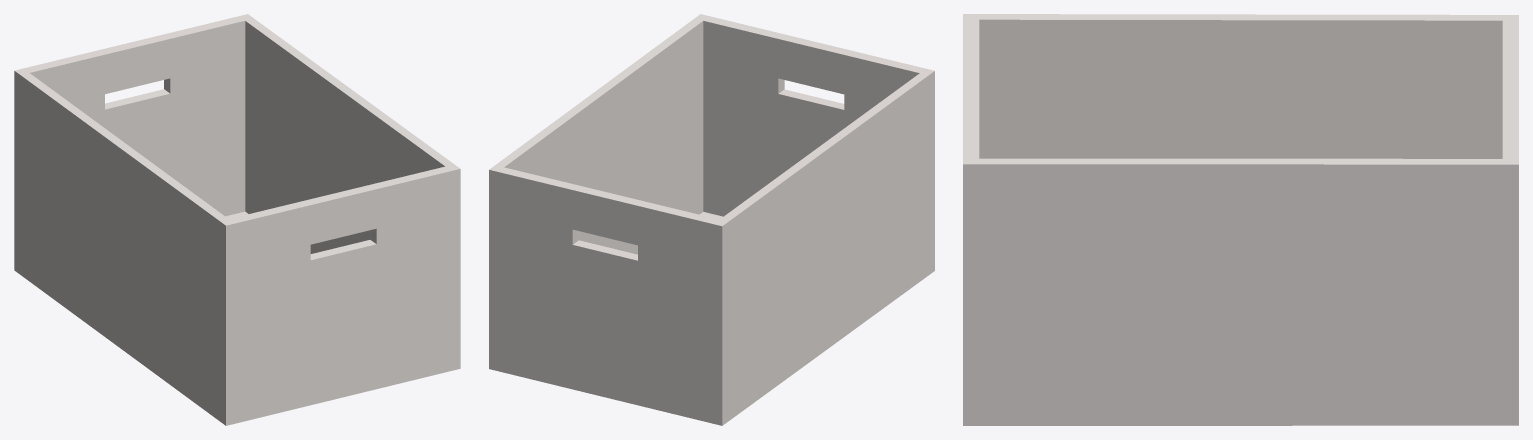
Rendered from warehouse_027.glb.
3 renders of one model, left to right at view 1: azimuth 30°, elevation 25°; view 2: azimuth 150°, elevation 25°; view 3: azimuth 270°, elevation 25°, orthographic. The views are drawn at different scales.
Visible parts, largest first — view 1: warehouse_027; view 2: warehouse_027; view 3: warehouse_027.
Part boxes in pixels (bbox=[...]): warehouse_027: bbox=[14, 14, 460, 425]; warehouse_027: bbox=[489, 14, 934, 425]; warehouse_027: bbox=[963, 14, 1518, 425].
Size of the model in its own units: 0.419 by 0.3418 by 0.6566.
1 material, 1 textured.
